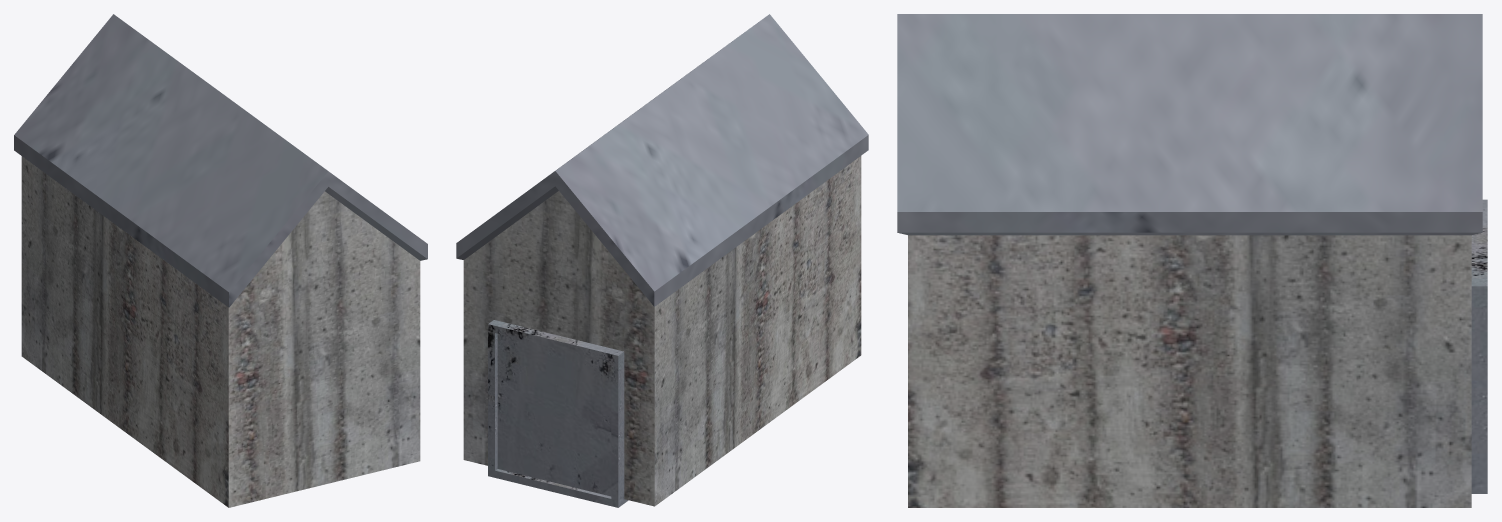
The model's file is smallhouse01.obj.
The picture shows the model from 3 angles, left to right: view 1: azimuth 30°, elevation 25°; view 2: azimuth 150°, elevation 25°; view 3: azimuth 270°, elevation 25°; orthographic projection. The views are drawn at different scales.
Parts seen in each view (by area): view 1: Cube.004_Cube.005; view 2: Cube.004_Cube.005; view 3: Cube.004_Cube.005.
Part boxes in pixels (<box>): Cube.004_Cube.005: <box>14,14,427,507</box>; Cube.004_Cube.005: <box>456,14,868,507</box>; Cube.004_Cube.005: <box>897,14,1487,507</box>.
Size of the model in its own units: 4.25 by 6.55 by 8.03.
